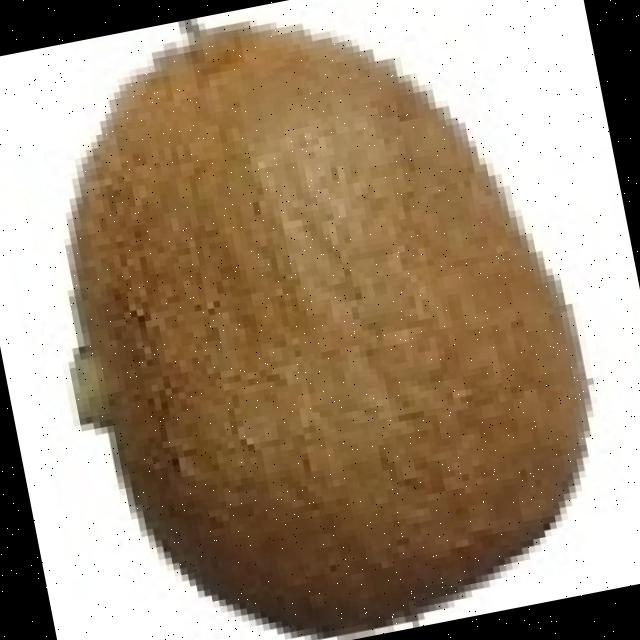kiwi: (82, 18, 594, 624)
